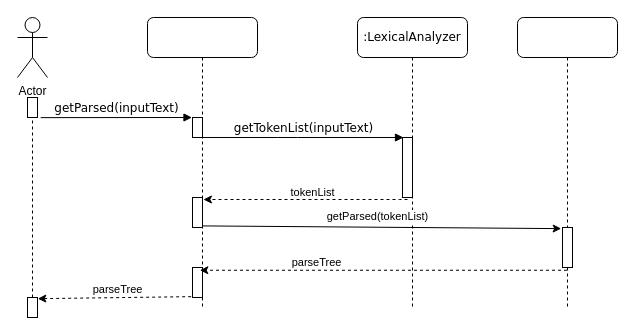
This 635x336 diagram has some shape labels left out. The box of each missing label's shape, as (x1, y1, x2, y2) in pixels:
:LLAlgorithm: (516, 16, 618, 308)
:SyntaxAnalyzer: (146, 16, 258, 308)
